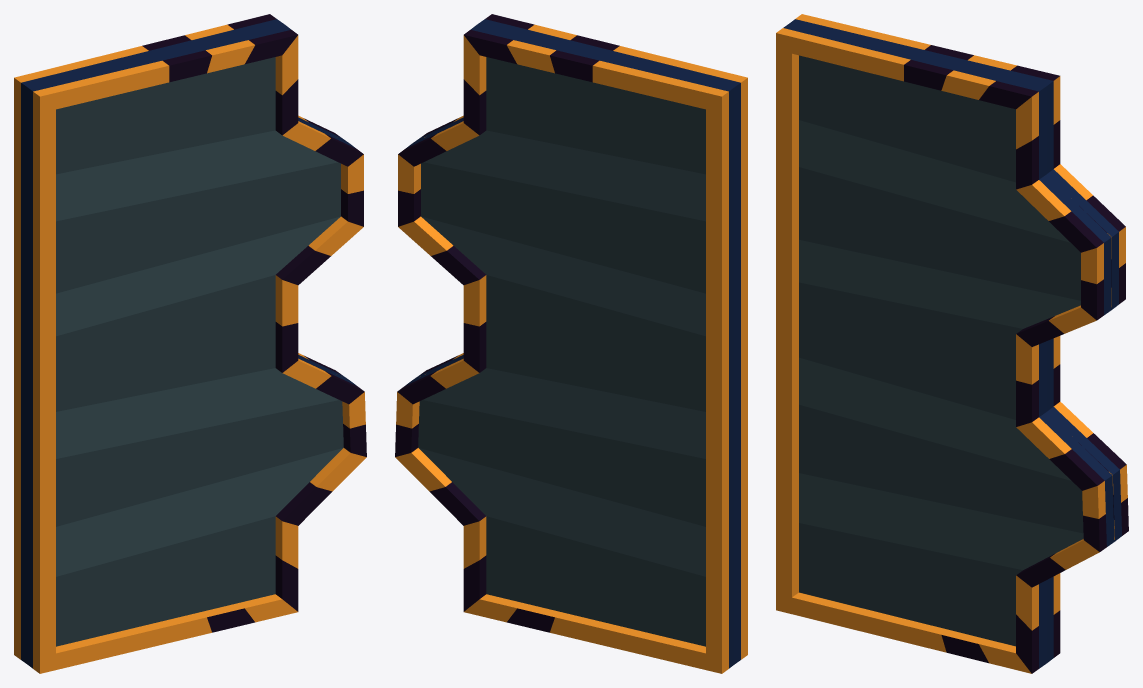
The model's file is left_door.fbx.
The picture shows the model from 3 angles, left to right: view 1: azimuth 30°, elevation 25°; view 2: azimuth 150°, elevation 25°; view 3: azimuth 330°, elevation 25°; orthographic projection.
Visible parts, largest first — view 1: left door; view 2: left door; view 3: left door.
Boxes of the visible parts, left/top/right/bottom form: left door: left=14, top=14, right=366, bottom=673; left door: left=395, top=14, right=747, bottom=673; left door: left=776, top=14, right=1128, bottom=673.
Bounding box in the file's own units: 662 × 1121 × 102.
